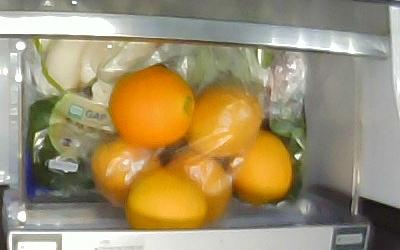orange: (107, 66, 195, 147), (126, 169, 207, 228), (227, 130, 291, 201)
orange_vinyl: (183, 85, 262, 156), (163, 152, 232, 223), (92, 139, 163, 207)
